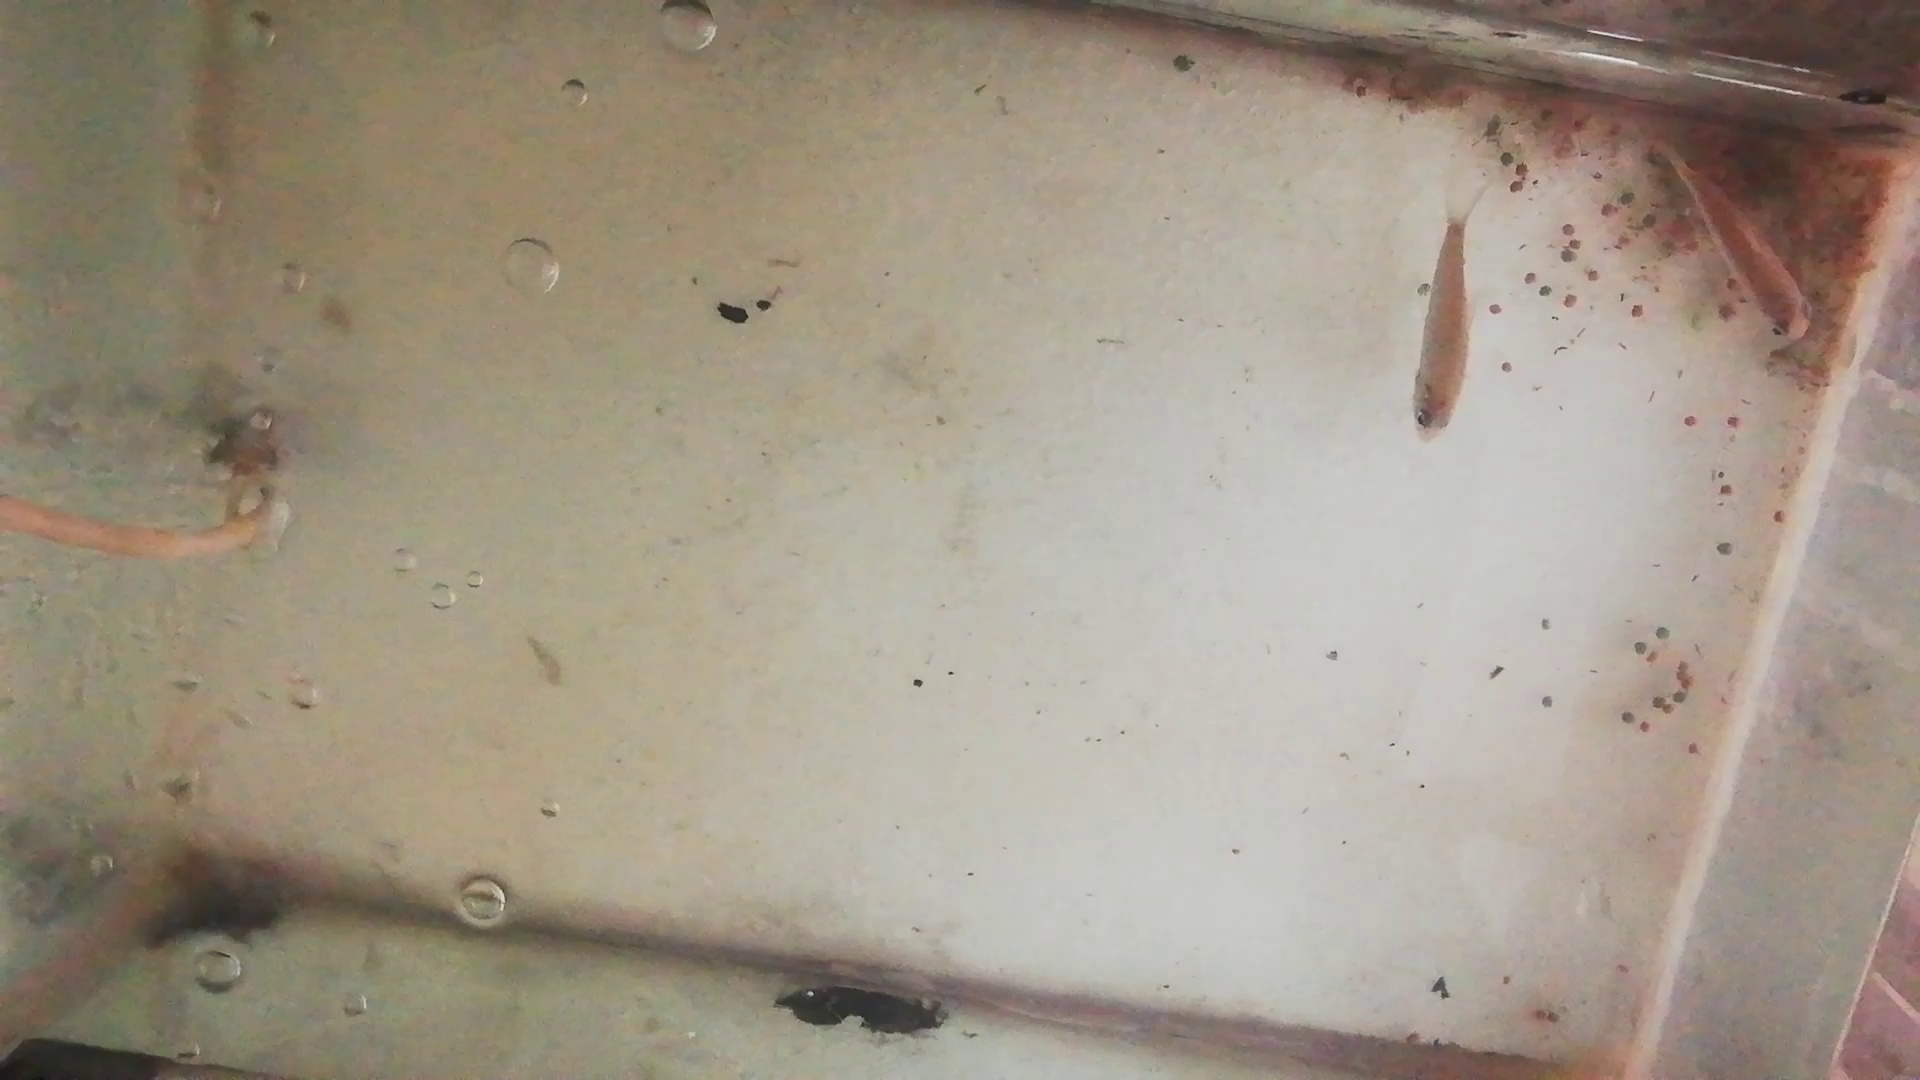fish: (1669, 154, 1811, 348), (1410, 218, 1473, 438)
